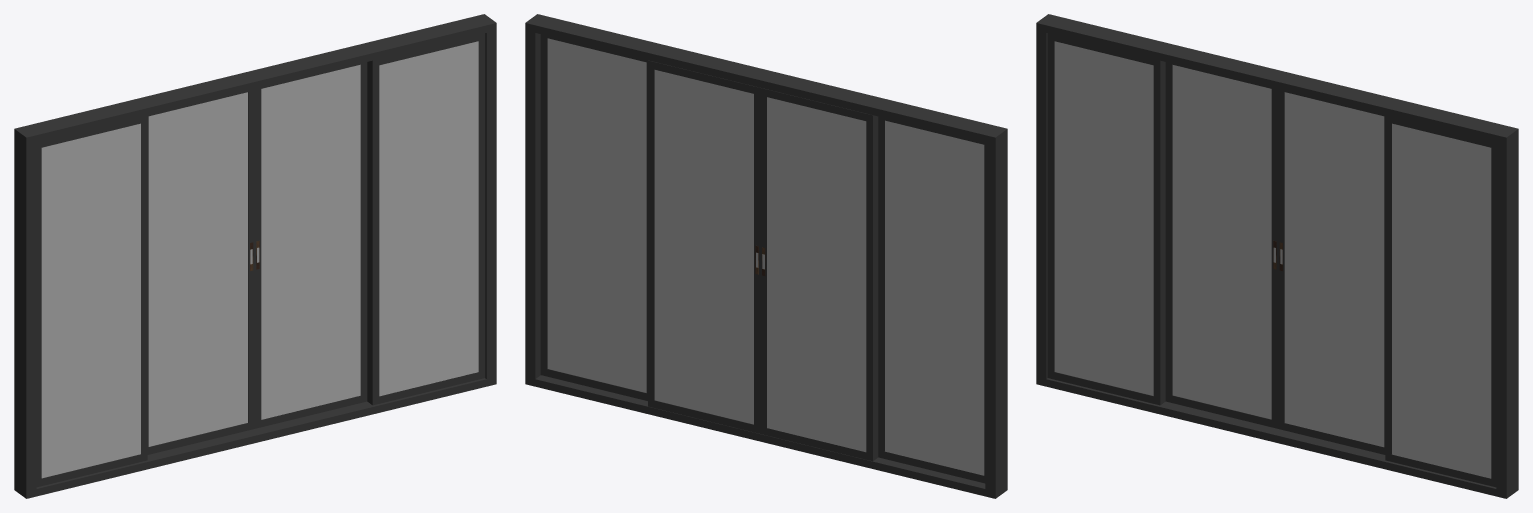
File: SLIDING DOOR (280X210CM).glb
3 views of the same model, side by side, from view 1: azimuth 30°, elevation 25°; view 2: azimuth 150°, elevation 25°; view 3: azimuth 330°, elevation 25° (orthographic).
Visible parts, largest first — view 1: SLIDING DOOR-OP.3 (2.8M), cage_Cube.001; view 2: SLIDING DOOR-OP.3 (2.8M), cage_Cube.001; view 3: SLIDING DOOR-OP.3 (2.8M), cage_Cube.001.
Part boxes in pixels (left/top/right/bottom): SLIDING DOOR-OP.3 (2.8M): left=36, top=33, right=485, bottom=487; cage_Cube.001: left=14, top=14, right=496, bottom=498; SLIDING DOOR-OP.3 (2.8M): left=540, top=34, right=985, bottom=483; cage_Cube.001: left=525, top=14, right=1007, bottom=498; SLIDING DOOR-OP.3 (2.8M): left=1047, top=33, right=1496, bottom=487; cage_Cube.001: left=1036, top=14, right=1518, bottom=498.
Bounding box in the file's own units: 2.86 × 2.1 × 0.1288.
4 materials, 1 textured.
